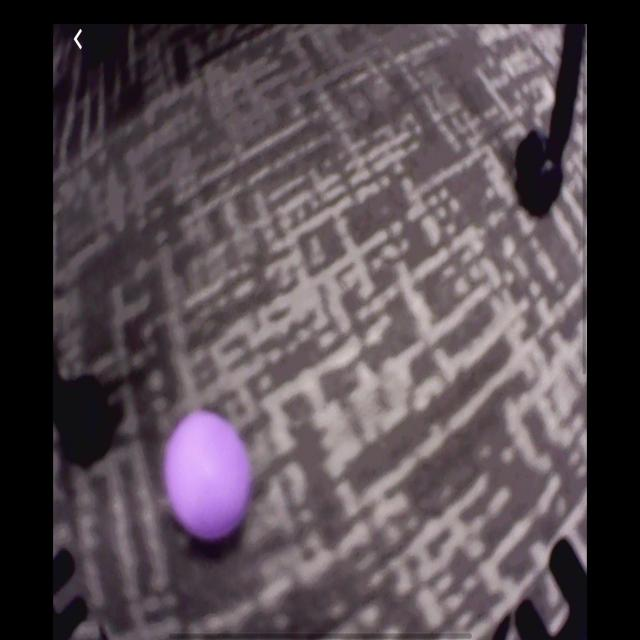ball: (164, 412, 254, 549)
